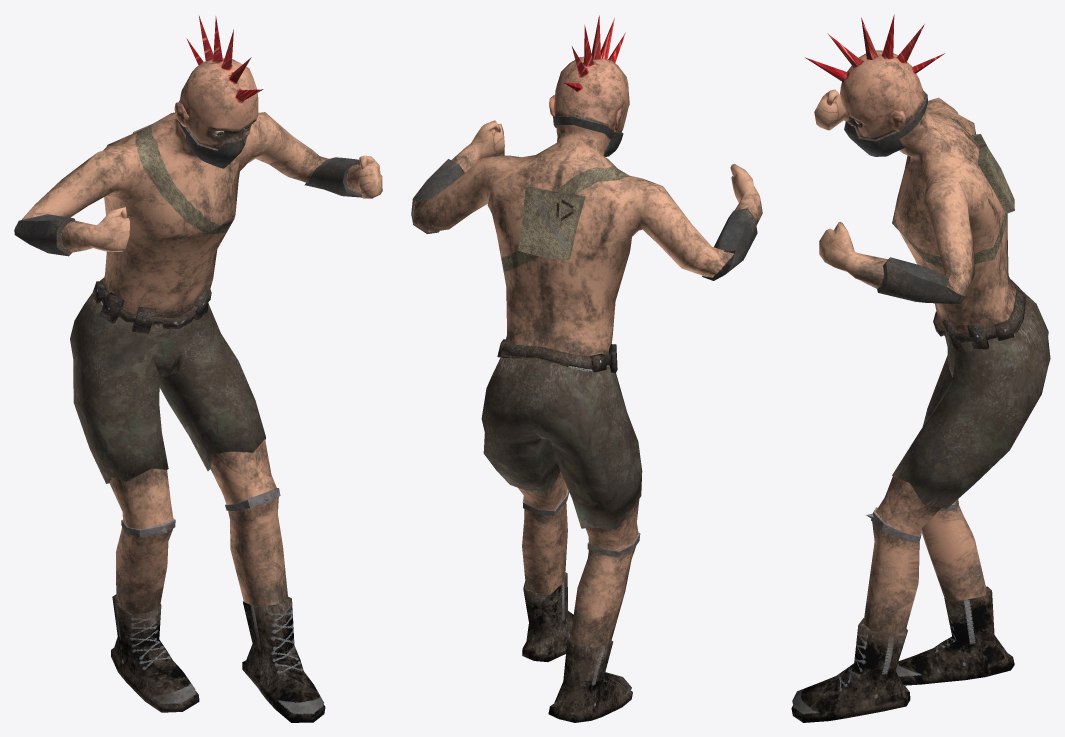
The model's file is Anim_ataque_d3_npc2.0040.obj.
3 renders of one model, left to right at view 1: azimuth 30°, elevation 25°; view 2: azimuth 150°, elevation 25°; view 3: azimuth 270°, elevation 25°, orthographic. The views are drawn at different scales.
Parts seen in each view (by area): view 1: polySurface1; view 2: polySurface1; view 3: polySurface1.
Boxes of the visible parts, box(x1,y1,x2,y2) form: polySurface1: box(14, 16, 382, 722); polySurface1: box(411, 15, 762, 722); polySurface1: box(791, 14, 1050, 722).
Bounding box in the file's own units: 4.87 × 9.69 × 3.32.
